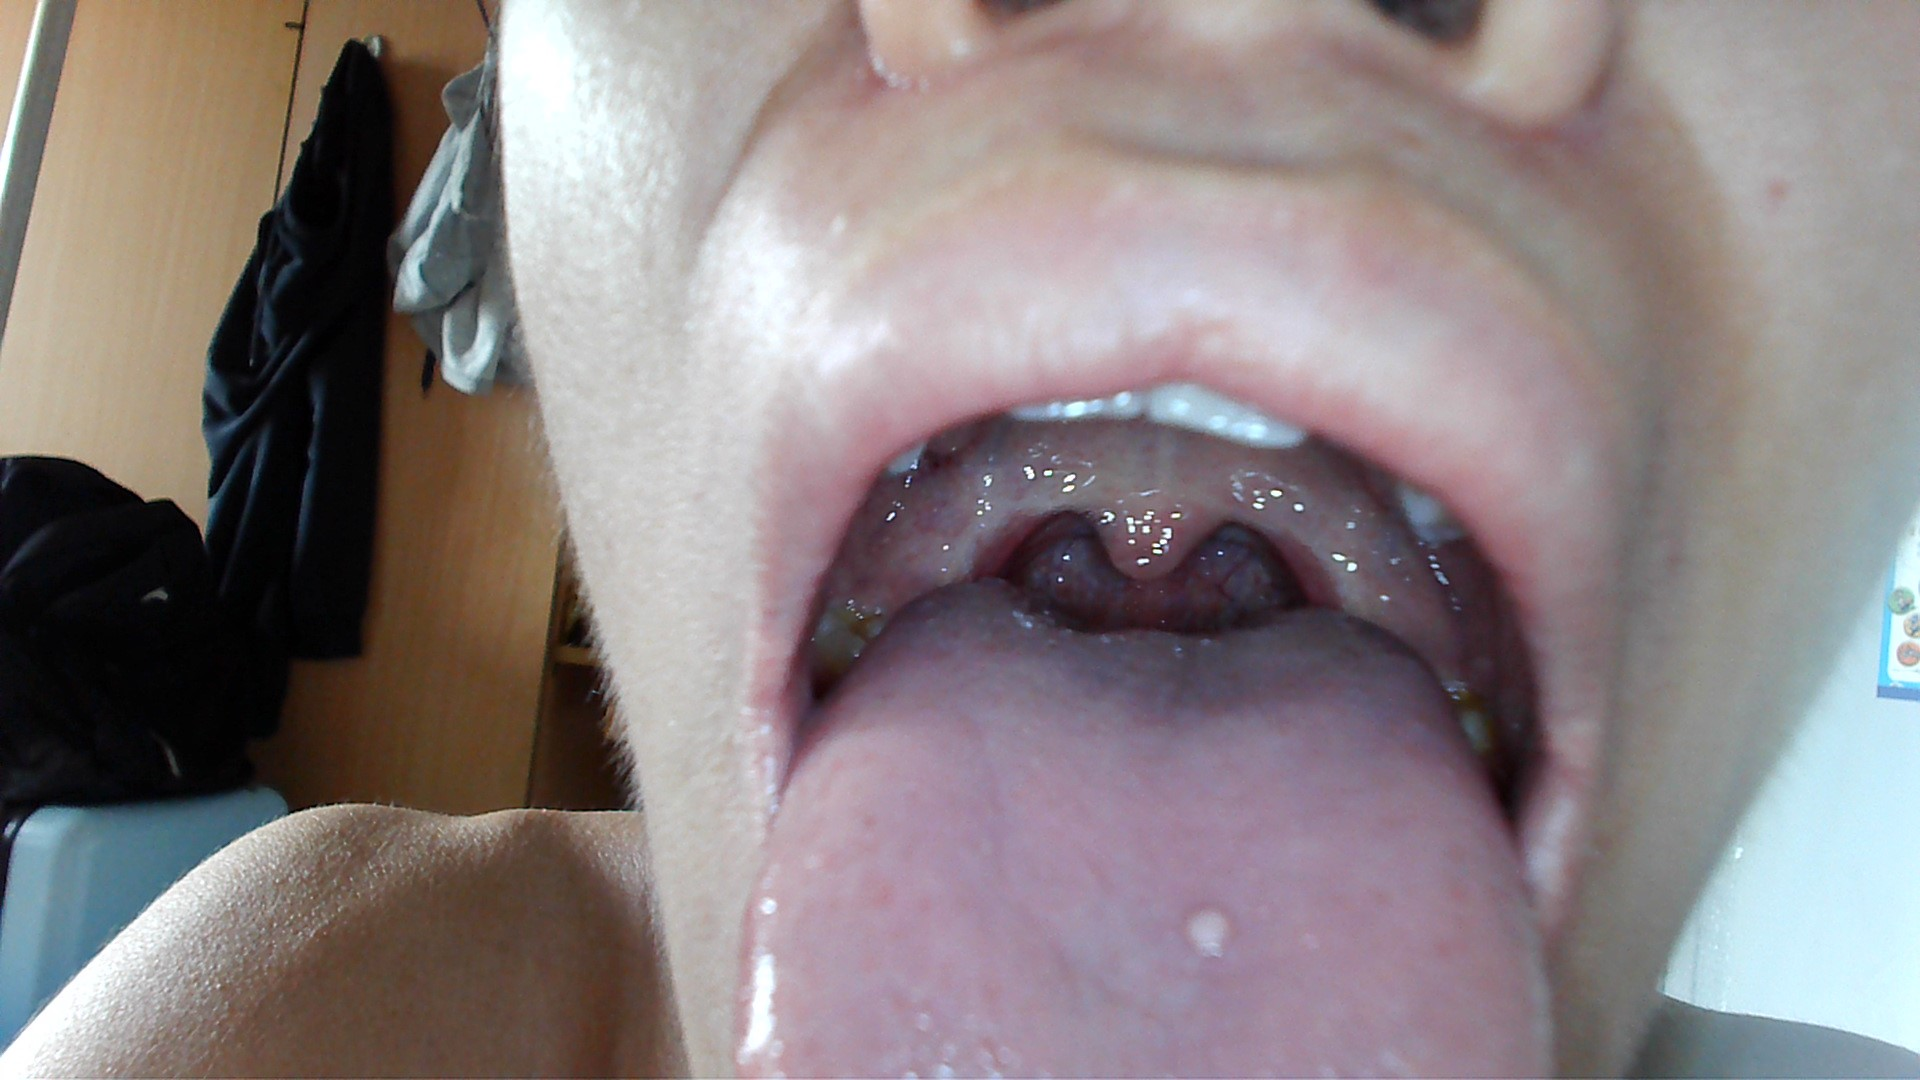throat: (1286, 500, 1394, 616), (906, 492, 1018, 584)
